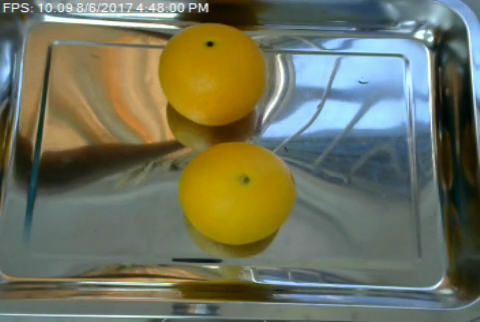Orange: (178, 141, 298, 246), (159, 23, 270, 127)
